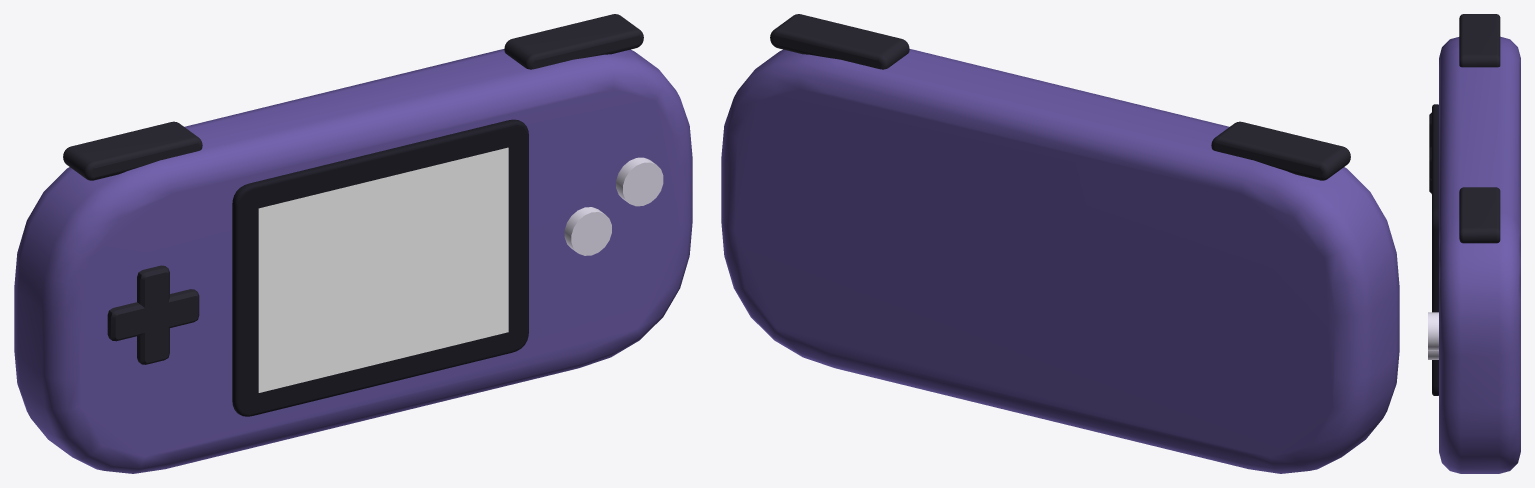
Rendered from widehandheld.glb.
3 views of the same model, side by side, from view 1: azimuth 30°, elevation 25°; view 2: azimuth 150°, elevation 25°; view 3: azimuth 270°, elevation 25° (orthographic). The views are drawn at different scales.
Visible parts, largest first — view 1: Body, Screen, Bezel, Pad, Btn; view 2: Body, Pad; view 3: Body, Pad, Bezel, Btn.
Part boxes in pixels (left/top/right/bottom): Body: left=14, top=49, right=692, bottom=473; Screen: left=258, top=147, right=508, bottom=392; Bezel: left=232, top=119, right=528, bottom=416; Pad: left=63, top=14, right=643, bottom=364; Btn: left=564, top=157, right=663, bottom=255; Body: left=721, top=49, right=1399, bottom=473; Pad: left=770, top=14, right=1350, bottom=180; Body: left=1439, top=36, right=1520, bottom=473; Pad: left=1429, top=14, right=1500, bottom=243; Bezel: left=1432, top=104, right=1438, bottom=395; Btn: left=1428, top=312, right=1438, bottom=359.
Bounding box in the file's own units: 0.44 × 0.208 × 0.068.
